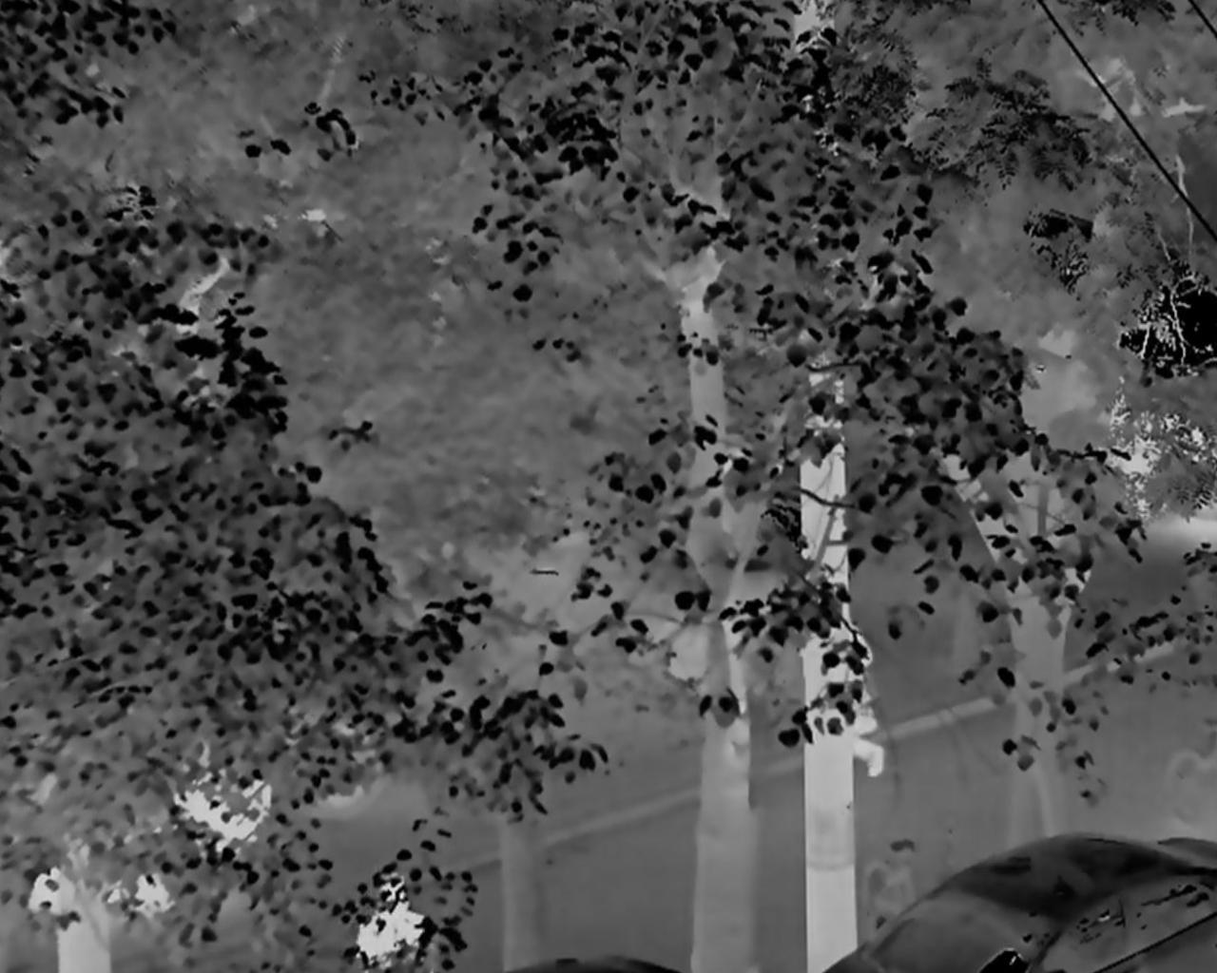person: (357, 875, 429, 973)
